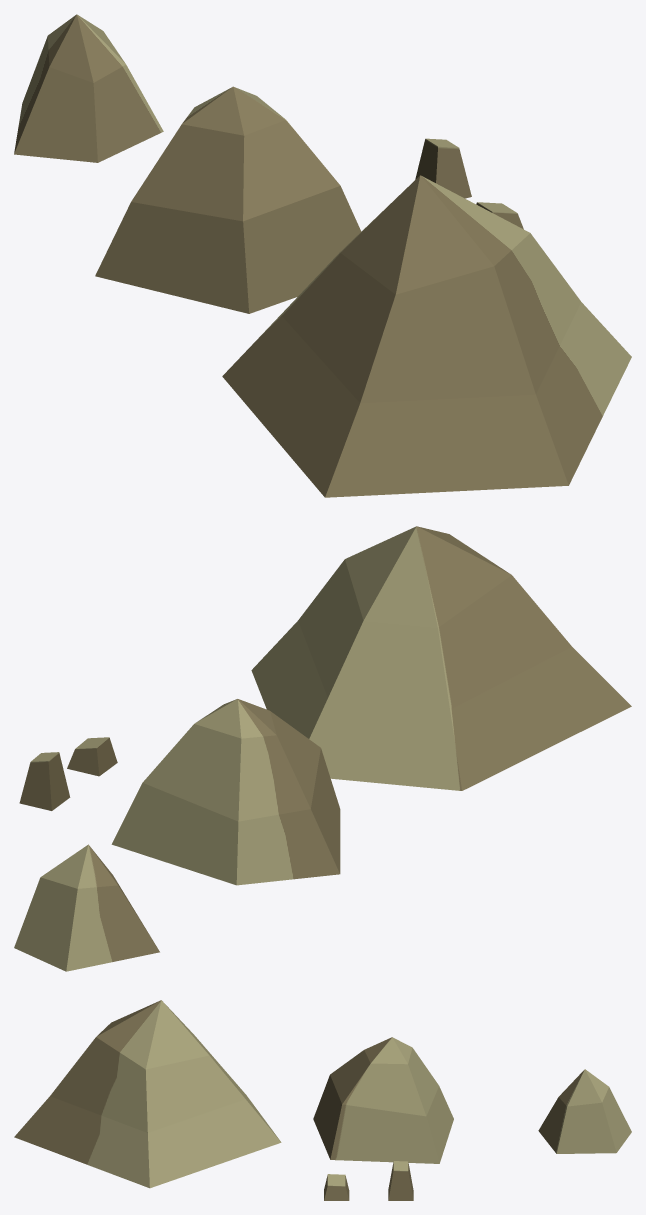
The model's file is overworldRocks_MESH.fbx.
The picture shows the model from 3 angles, top to bottom: view 1: azimuth 30°, elevation 25°; view 2: azimuth 150°, elevation 25°; view 3: azimuth 270°, elevation 25°; orthographic projection. The views are drawn at different scales.
Visible parts, largest first — view 1: bigMountain_MESH, midMountain_MESH, smallMountain_MESH, midCubeRock_MESH; view 2: bigMountain_MESH, midMountain_MESH, smallMountain_MESH, midCubeRock_MESH, smallCubeRock_MESH; view 3: bigMountain_MESH, midMountain_MESH, smallMountain_MESH, midCubeRock_MESH, smallCubeRock_MESH.
Part boxes in pixels (box(x1,y1,x2,y2)): bigMountain_MESH: box(222, 175, 631, 497); midMountain_MESH: box(95, 86, 361, 313); smallMountain_MESH: box(14, 14, 163, 162); midCubeRock_MESH: box(415, 138, 471, 198); bigMountain_MESH: box(251, 526, 631, 790); midMountain_MESH: box(111, 699, 340, 885); smallMountain_MESH: box(14, 844, 159, 971); midCubeRock_MESH: box(19, 752, 70, 810); smallCubeRock_MESH: box(67, 737, 117, 776); bigMountain_MESH: box(14, 1000, 281, 1188); midMountain_MESH: box(313, 1037, 453, 1163); smallMountain_MESH: box(538, 1069, 631, 1153); midCubeRock_MESH: box(388, 1161, 413, 1200); smallCubeRock_MESH: box(324, 1174, 349, 1200).
Size of the model in its own units: 6.02 by 3.08 by 13.18.
